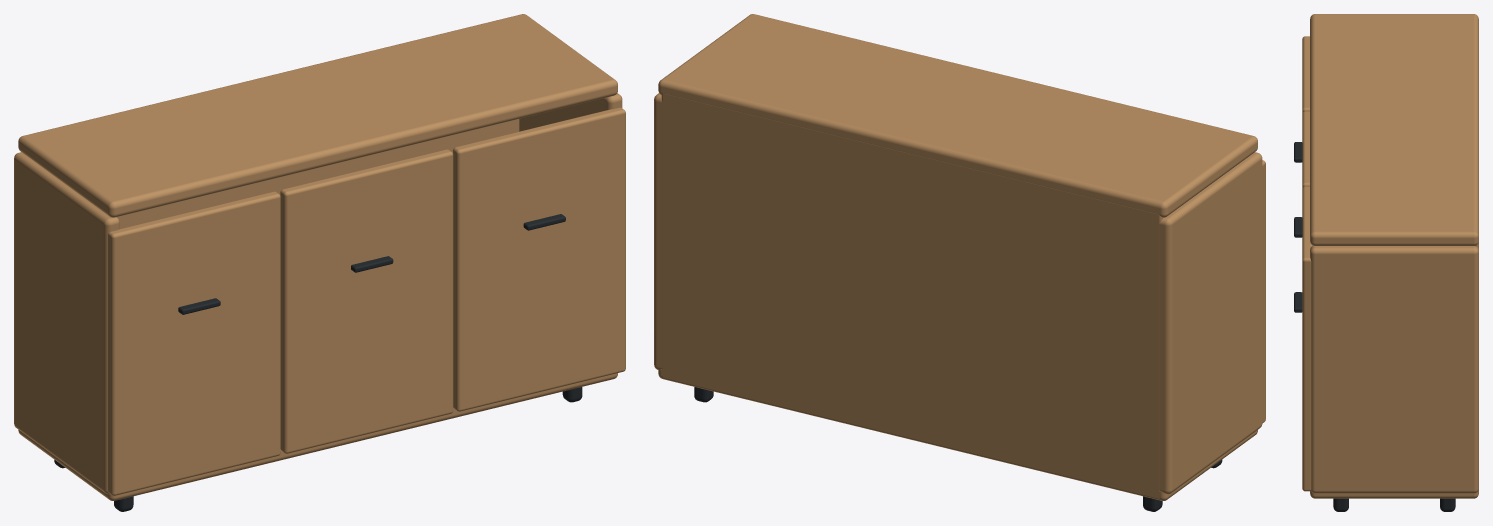
File: storage-1.glb
The picture shows the model from 3 angles, left to right: view 1: azimuth 30°, elevation 25°; view 2: azimuth 150°, elevation 25°; view 3: azimuth 270°, elevation 25°; orthographic projection. The views are drawn at different scales.
Parts seen in each view (by area): view 1: storage:1:archviz; view 2: storage:1:archviz; view 3: storage:1:archviz.
Boxes of the visible parts, x1,y1,x2,y2 form: storage:1:archviz: (14,14,625,511); storage:1:archviz: (654,14,1265,511); storage:1:archviz: (1294,14,1478,511).
Size of the model in its own units: 1.2 by 0.72 by 0.416.
